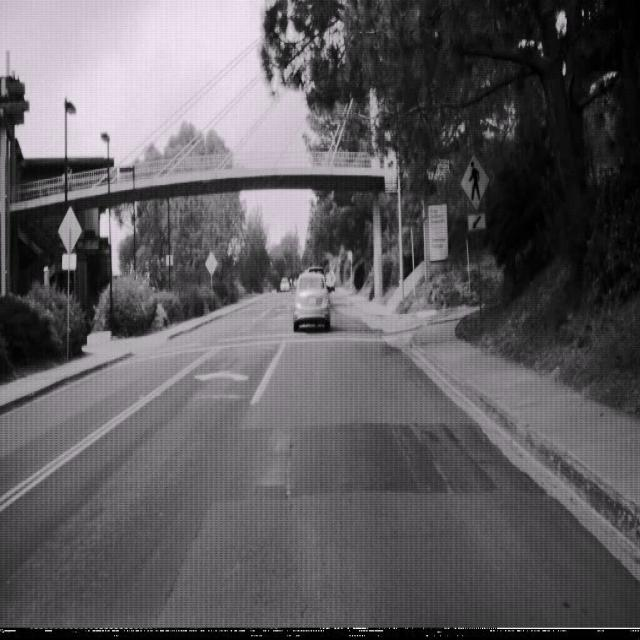pedestrianCrossing: (460, 151, 490, 212)
